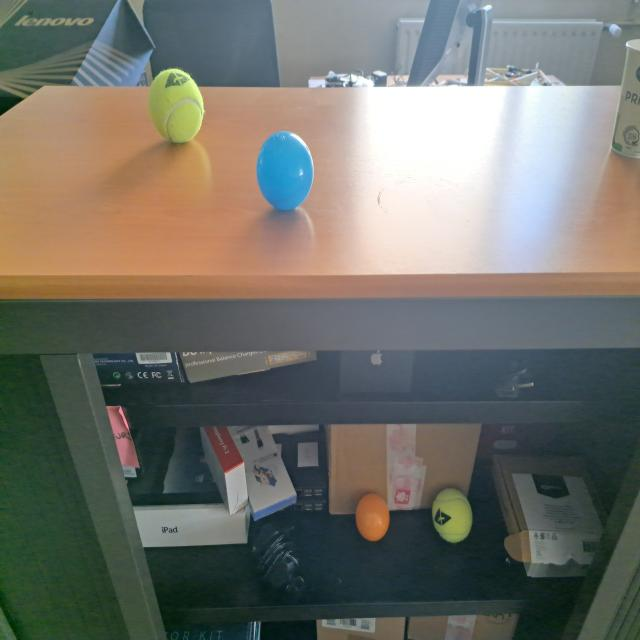blue: (256, 128, 316, 215)
orange: (355, 489, 390, 545)
tennis: (148, 66, 206, 148), (429, 486, 476, 546)
